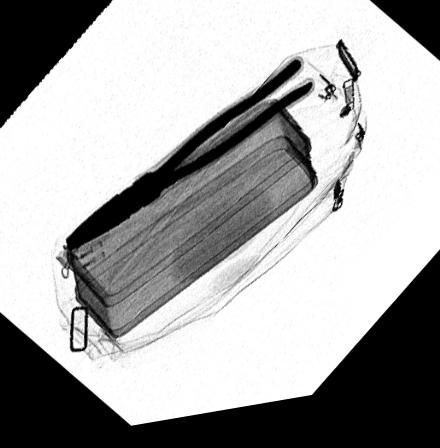Pliers: (65, 66, 311, 253)
